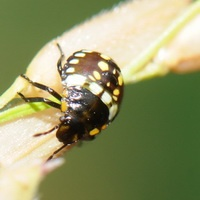insect: (18, 43, 123, 159)
